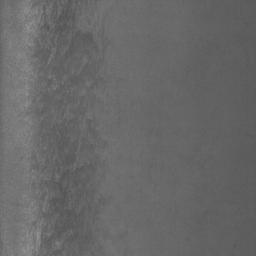Silk spot: (24, 0, 120, 256)
